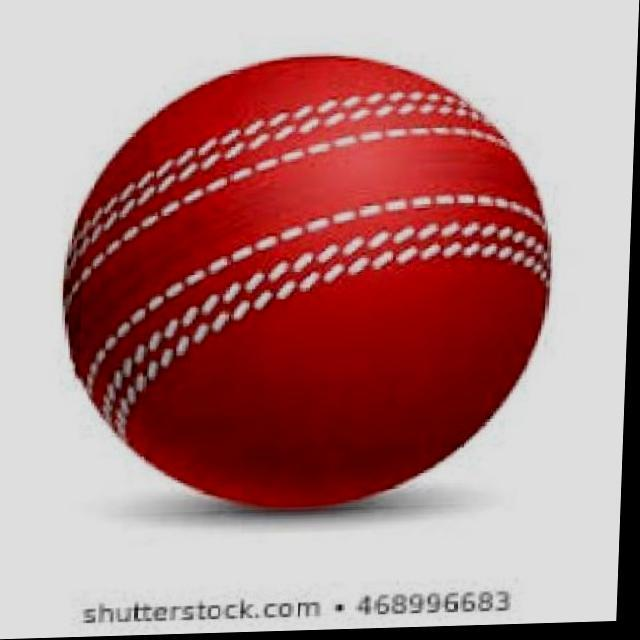-: (78, 59, 553, 516)
